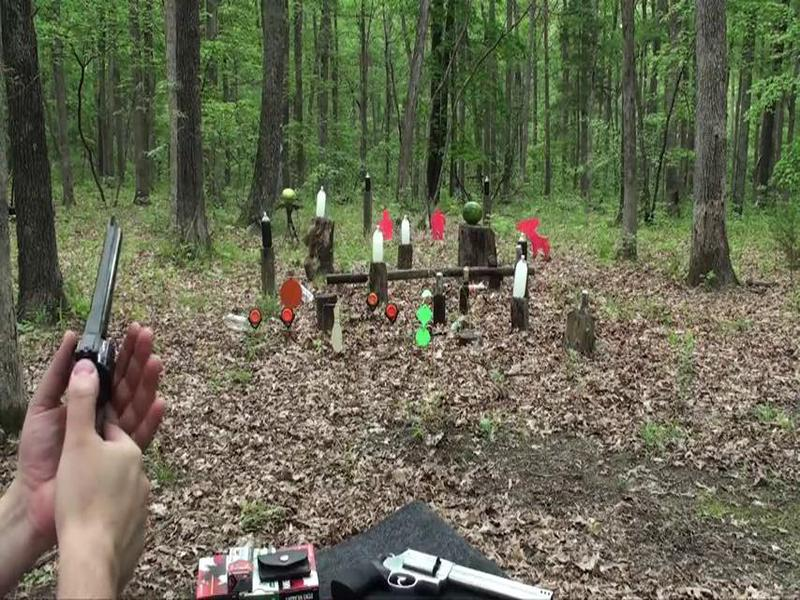Revolver: (58, 205, 143, 427)
